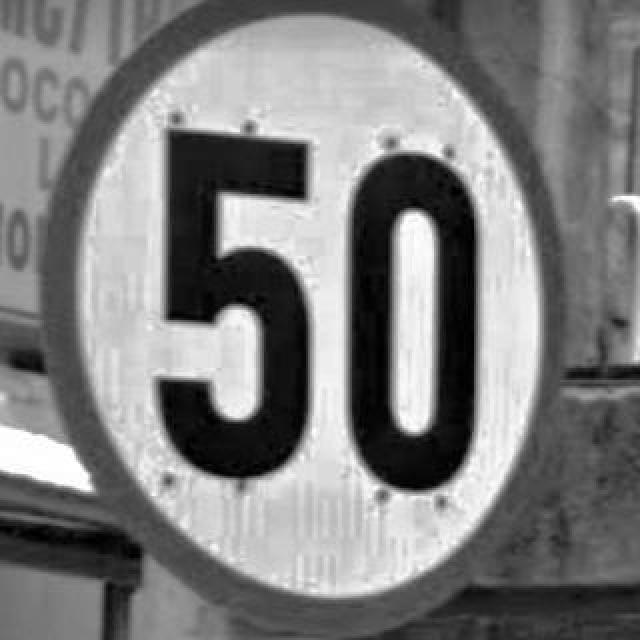50 kph: (34, 0, 566, 630)
